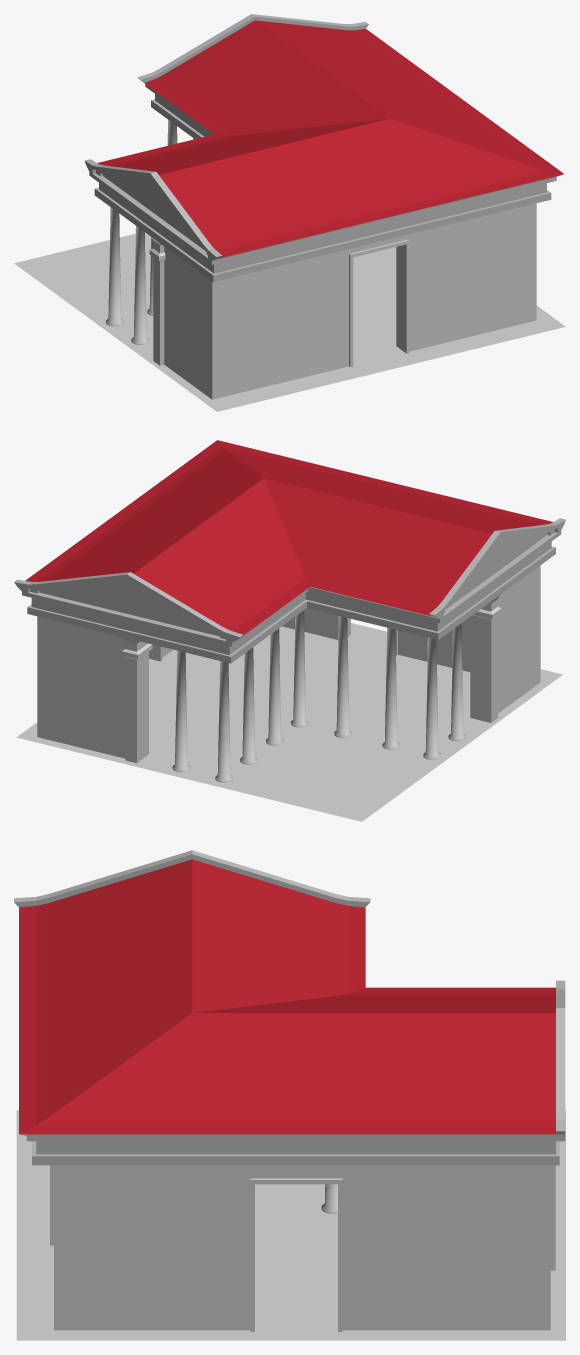
The picture shows the model from 3 angles, top to bottom: view 1: azimuth 30°, elevation 25°; view 2: azimuth 150°, elevation 25°; view 3: azimuth 270°, elevation 25°; orthographic projection. The views are drawn at different scales.
Visible parts, largest first — view 1: Plane_032; view 2: Plane_032; view 3: Plane_032.
Boxes of the visible parts, bbox=[...] form: Plane_032: bbox=[14, 14, 565, 411]; Plane_032: bbox=[14, 440, 565, 821]; Plane_032: bbox=[14, 850, 565, 1340].
Bounding box in the file's own units: 9.26 × 4.9 × 9.27.
